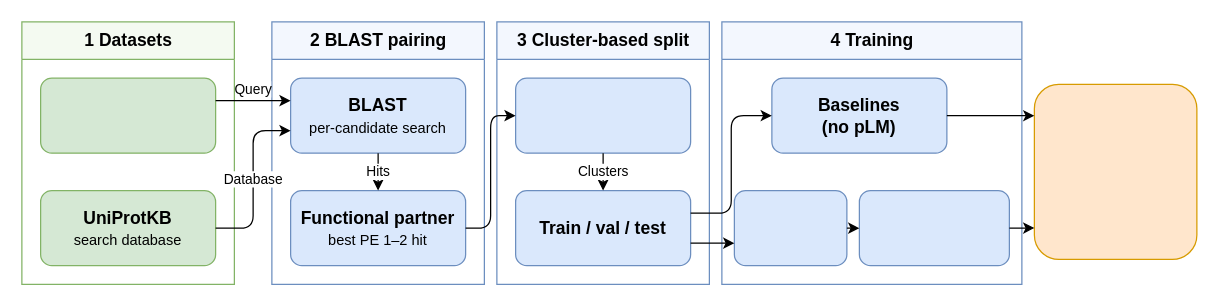
Some shapes in this 1219 by 306 pixel diagram are drawn without their labels. The centre of each missing label's shape, as x and y in pixels:
Classifier: point 933,227
Evaluation on Test Data: point 1115,171
MMseqs2: point 602,115
pLM: point 790,227
Pseudogene candidates Swiss-Prot · PE 5: point 127,115
